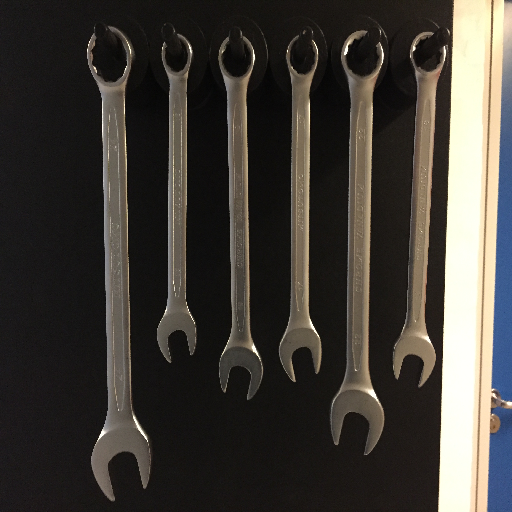bottom: (88, 429, 158, 502), (328, 388, 391, 458), (215, 343, 267, 401), (388, 332, 438, 389), (277, 330, 324, 387), (153, 311, 201, 363)
top: (82, 23, 140, 87), (338, 28, 384, 82), (215, 32, 257, 82), (407, 28, 448, 77), (157, 32, 197, 81), (284, 32, 323, 78)
